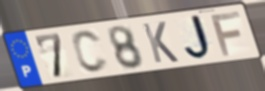7: (32, 31, 65, 81)
8: (108, 25, 144, 71)
C: (70, 29, 111, 75)
F: (209, 10, 243, 58)
J: (183, 13, 217, 63)
K: (140, 20, 182, 65)
